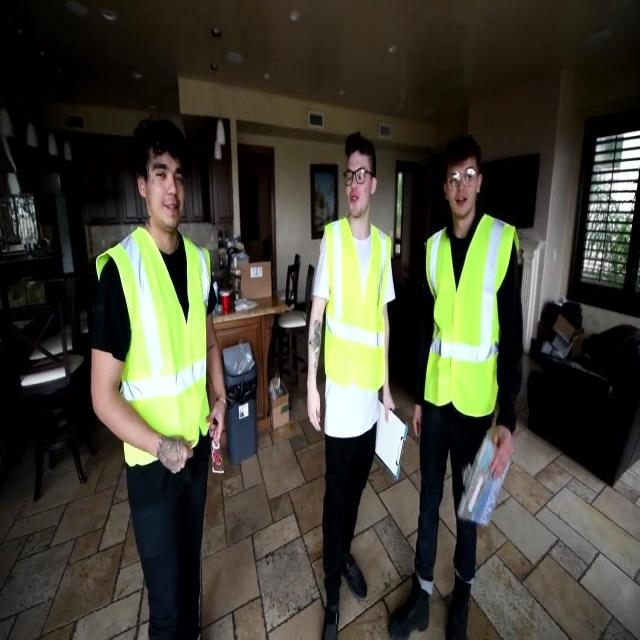Vest: (91, 228, 213, 465), (424, 214, 524, 415), (322, 217, 392, 388)
